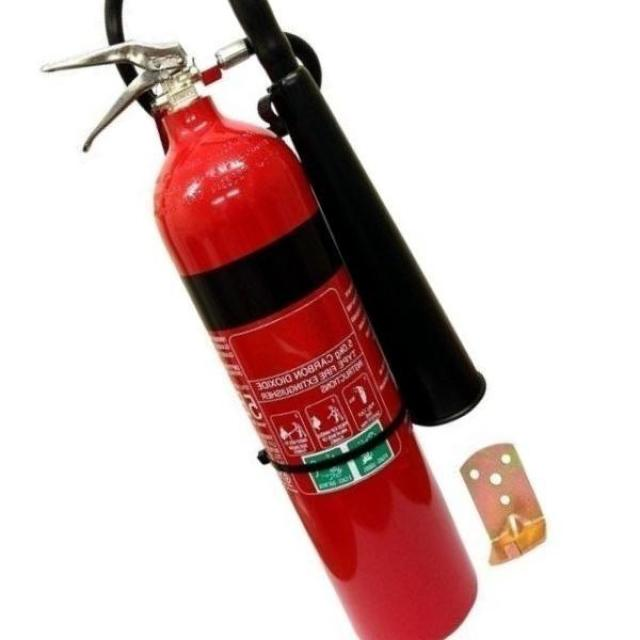fire_extinguisher: (34, 0, 488, 638)
